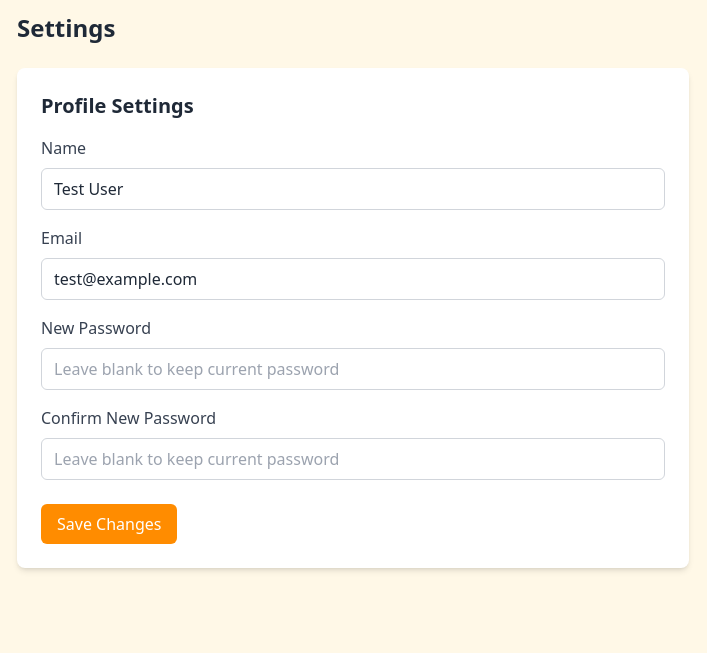
Test: Settings Component › updates profile successfully when form is submitted
The image size is (707, 653).
// Update name field
Replace the text in the field labelled "Name" with "Updated Name": (353, 189) 41,168 -> 665,210
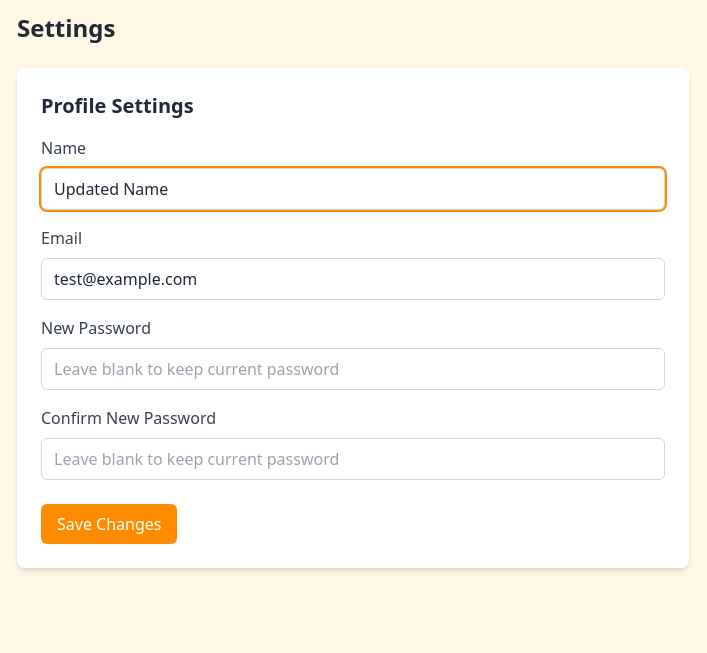
// Submit the form
Click the button "Save Changes": (109, 524) 41,504 -> 178,544
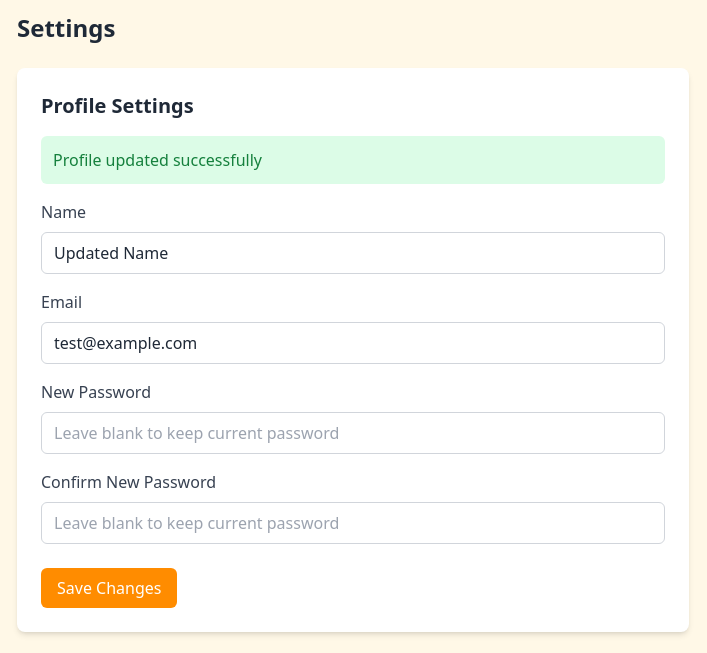
Check: the text "Profile updated successfully" is shown, box 41,136 -> 665,184
